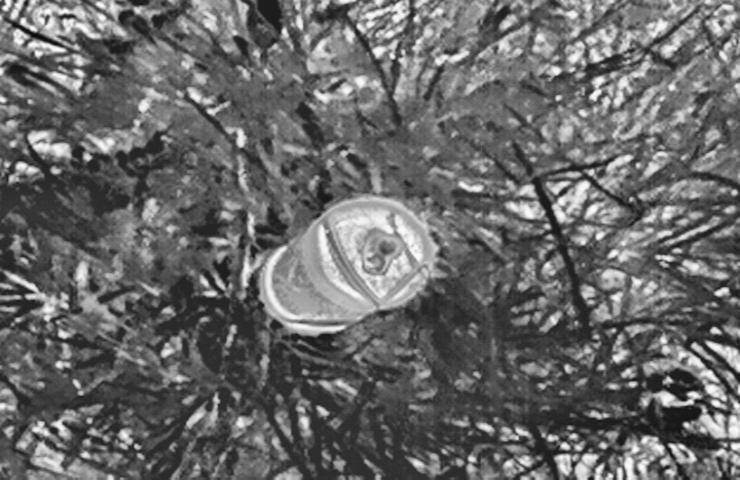landmines: (251, 186, 441, 343)
